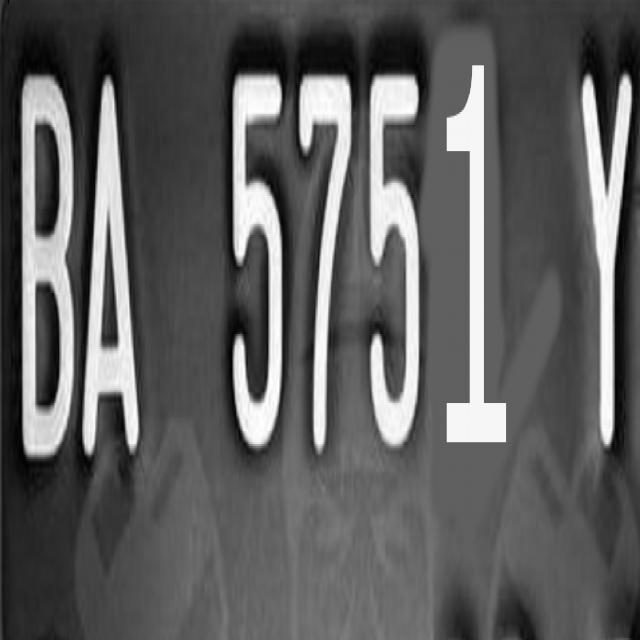1: (433, 48, 523, 463)
5: (363, 63, 435, 464), (224, 58, 288, 462)
7: (296, 64, 356, 461)
A: (86, 69, 146, 468)
B: (0, 70, 83, 461)
Y: (570, 63, 640, 458)
